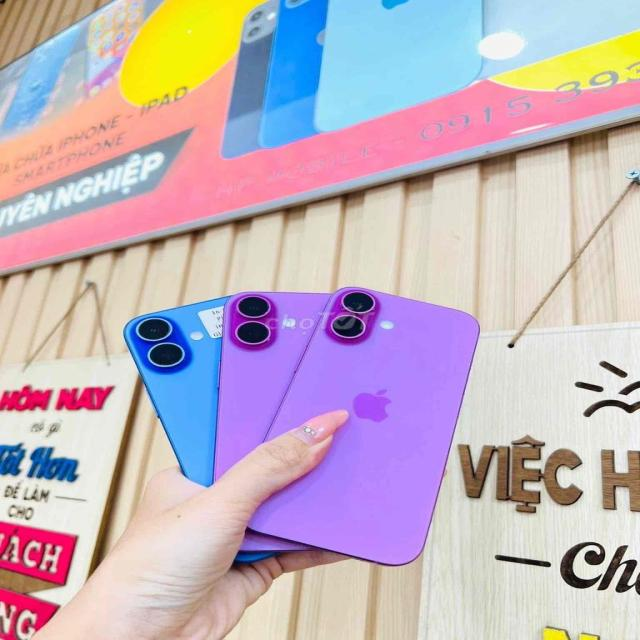gen_16: (248, 276, 472, 577)
